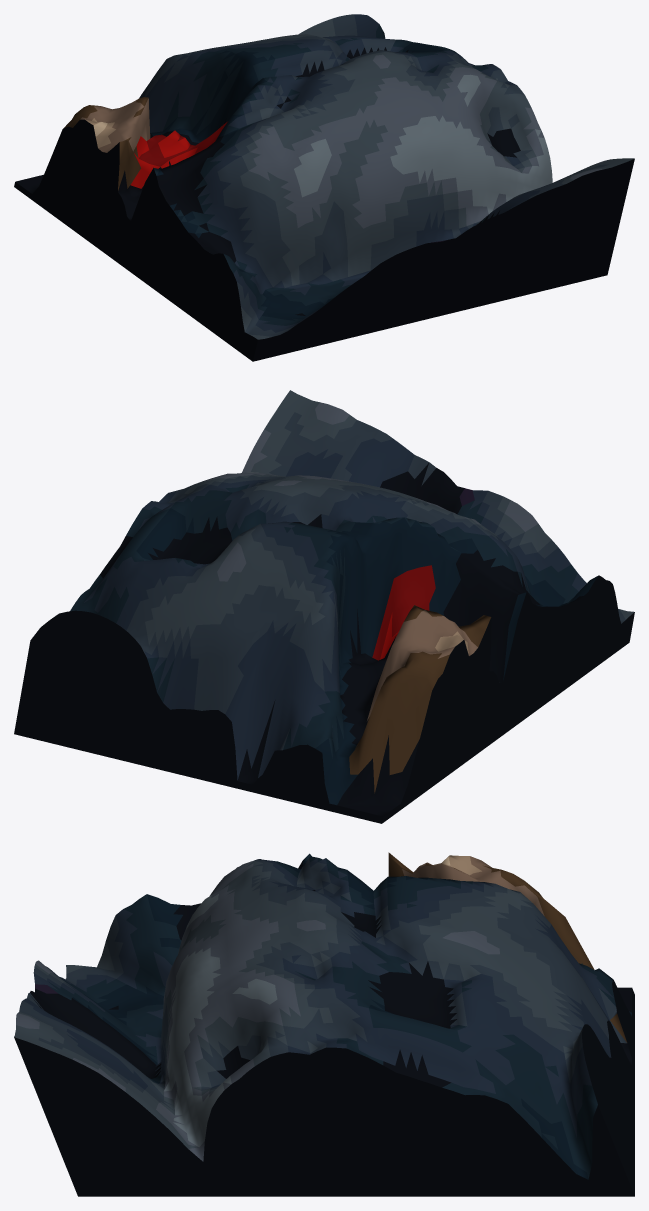
File: gyges_maw_89.glb
3 views of the same model, one above another, from view 1: azimuth 30°, elevation 25°; view 2: azimuth 150°, elevation 25°; view 3: azimuth 270°, elevation 25° (orthographic). The views are drawn at different scales.
Parts seen in each view (by area): view 1: gyges_maw_89; view 2: gyges_maw_89; view 3: gyges_maw_89.
Boxes of the visible parts, bbox=[...] form: gyges_maw_89: bbox=[14, 14, 634, 361]; gyges_maw_89: bbox=[14, 390, 634, 823]; gyges_maw_89: bbox=[14, 852, 634, 1196].
Bounding box in the file's own units: 24 × 11.27 × 31.22.
